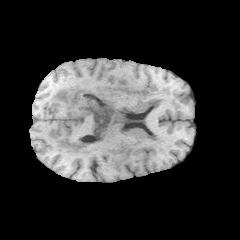glioma: (49, 81, 180, 173)
